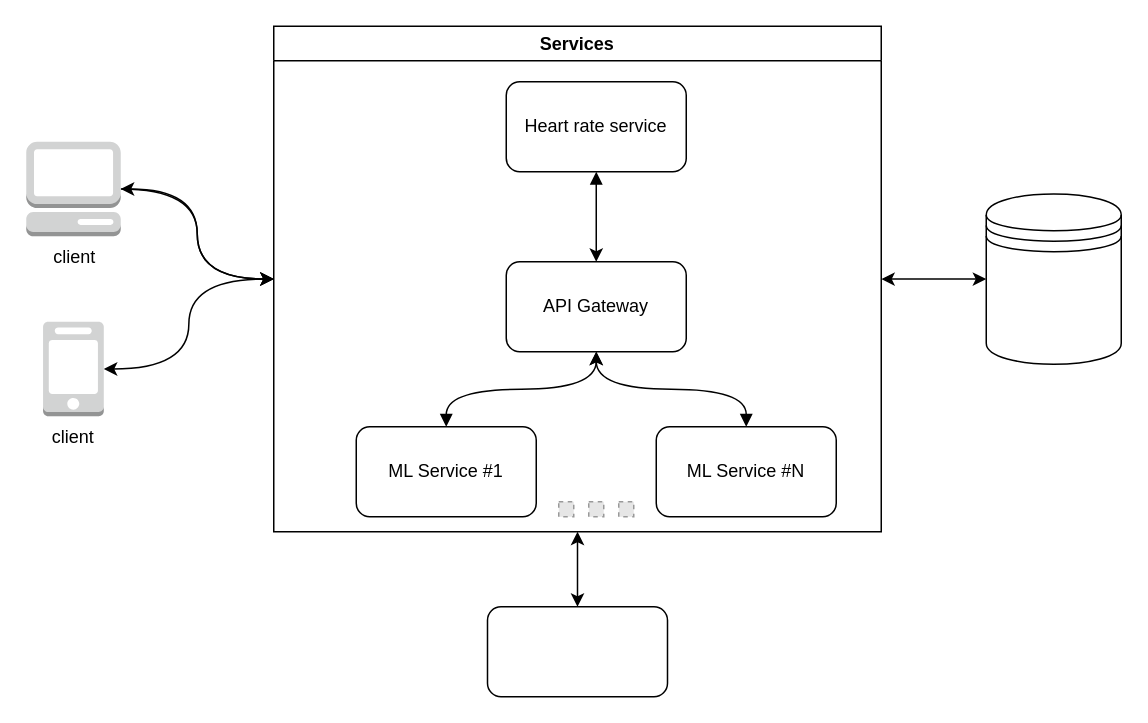
This 1148x723 diagram has some shape labels left out. Grey dashed boxes stand in for pictures. Each missing label, with the box of its shape:
data storage: (985, 192, 1121, 364)
External service: (486, 605, 668, 697)
